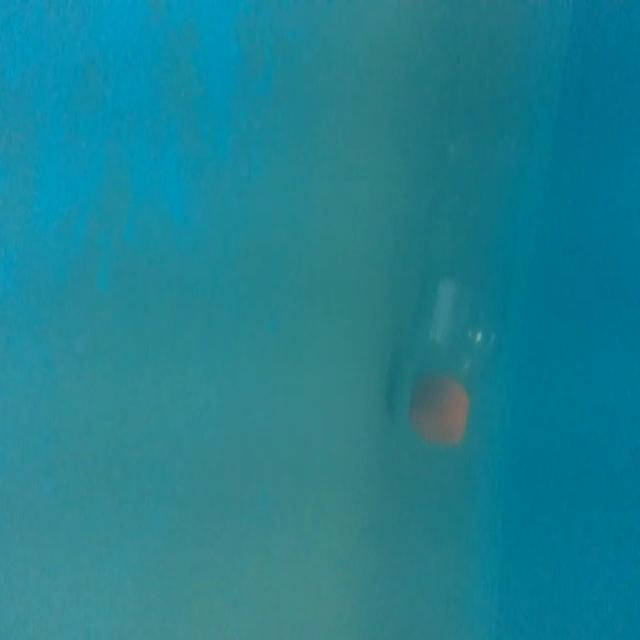plastic bottle: (402, 99, 551, 480)
